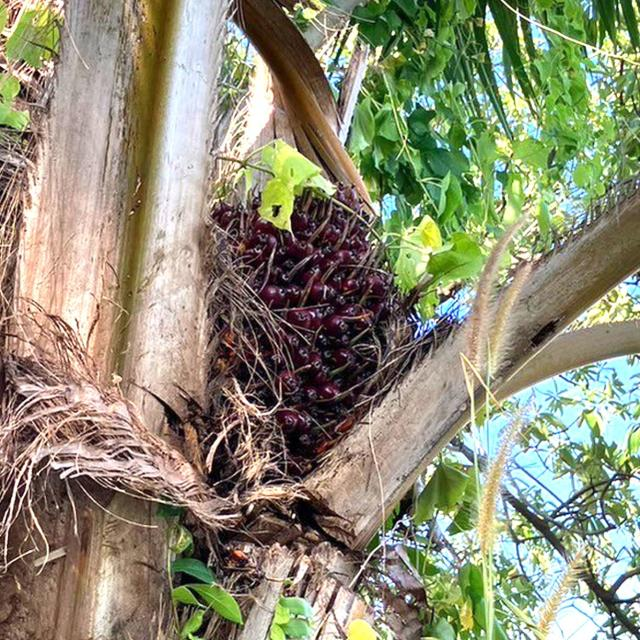ripe: (199, 172, 403, 458)
